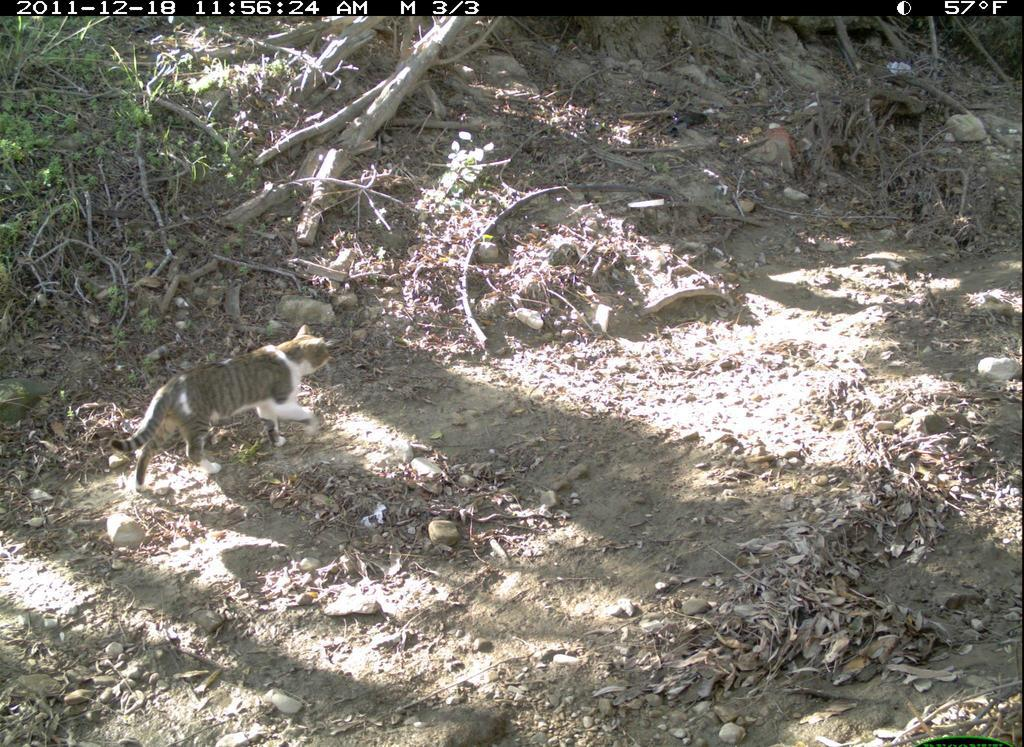cat: (95, 312, 350, 507)
